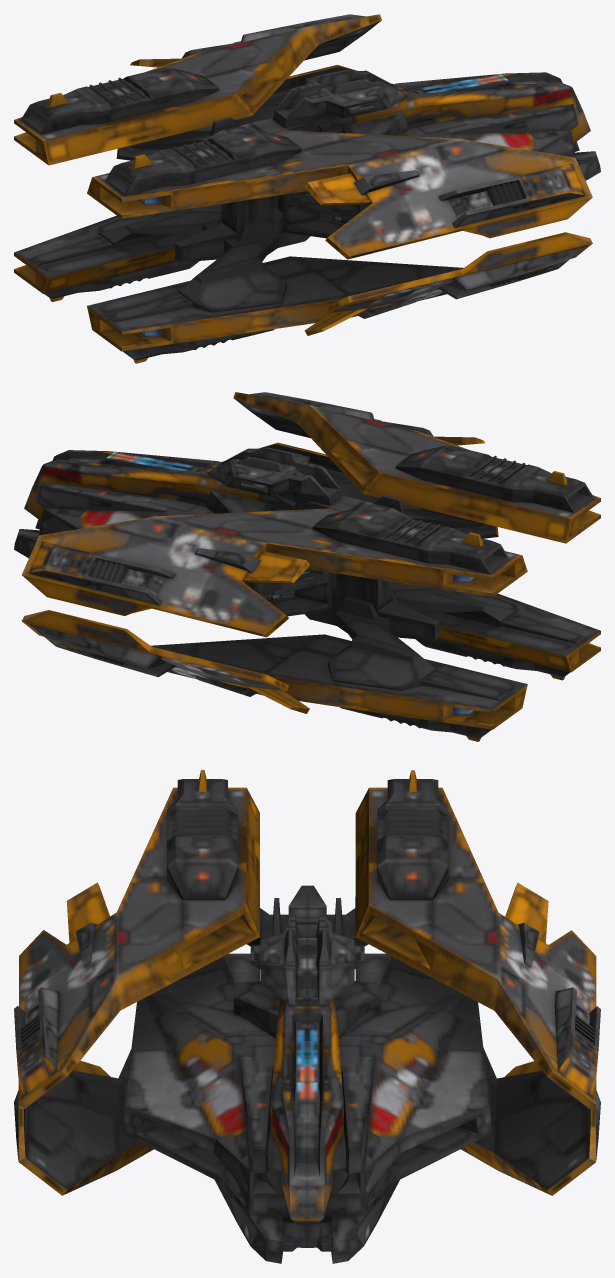
Rendered from spaceship02.fbx.
3 renders of one model, top to bottom at view 1: azimuth 30°, elevation 25°; view 2: azimuth 150°, elevation 25°; view 3: azimuth 270°, elevation 25°, orthographic. The views are drawn at different scales.
Parts seen in each view (by area): view 1: SciFi_Fighter; view 2: SciFi_Fighter; view 3: SciFi_Fighter.
Part boxes in pixels (left/top/right/bottom): SciFi_Fighter: left=14, top=14, right=600, bottom=363; SciFi_Fighter: left=14, top=392, right=600, bottom=741; SciFi_Fighter: left=14, top=770, right=600, bottom=1263.
Bounding box in the file's own units: 2170 × 1689 × 818.
Materials: 1 (1 with a texture image).
